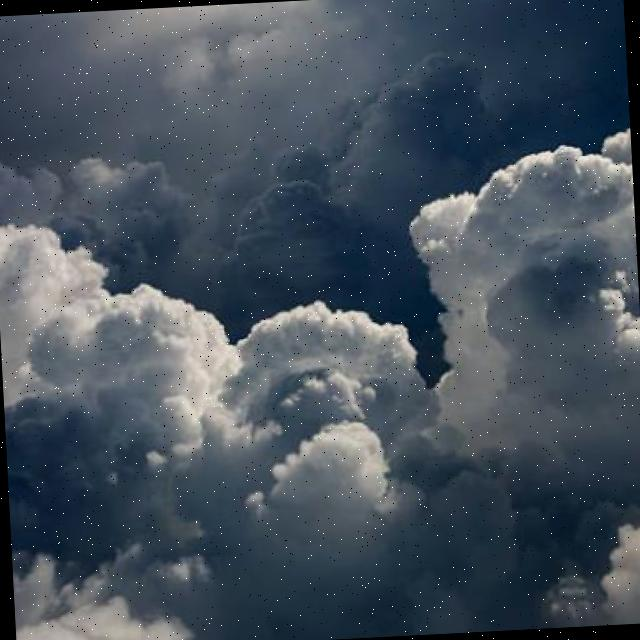Cu: (1, 100, 640, 618)
